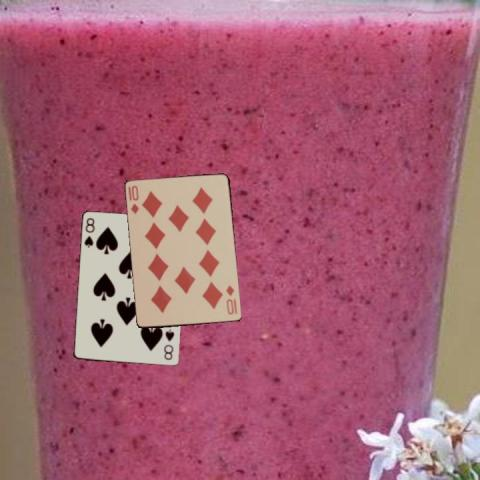10d: (125, 183, 140, 215), (224, 283, 236, 316)
8s: (81, 215, 96, 249), (162, 326, 176, 361)
